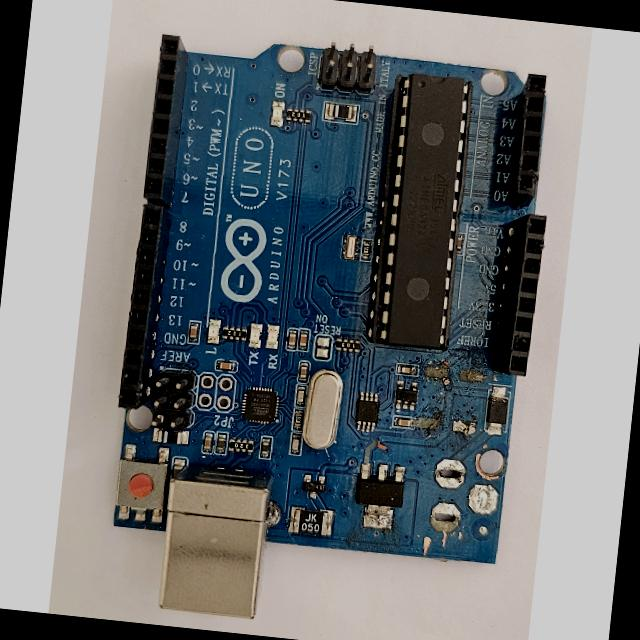missing_capacitors: (414, 358, 491, 449)
missing_eps: (424, 453, 490, 545)
